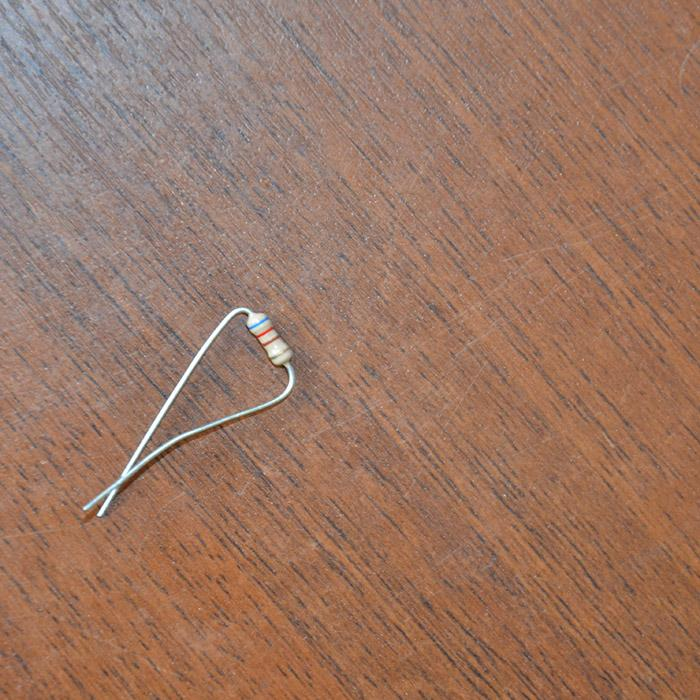resistor: (246, 311, 291, 367)
